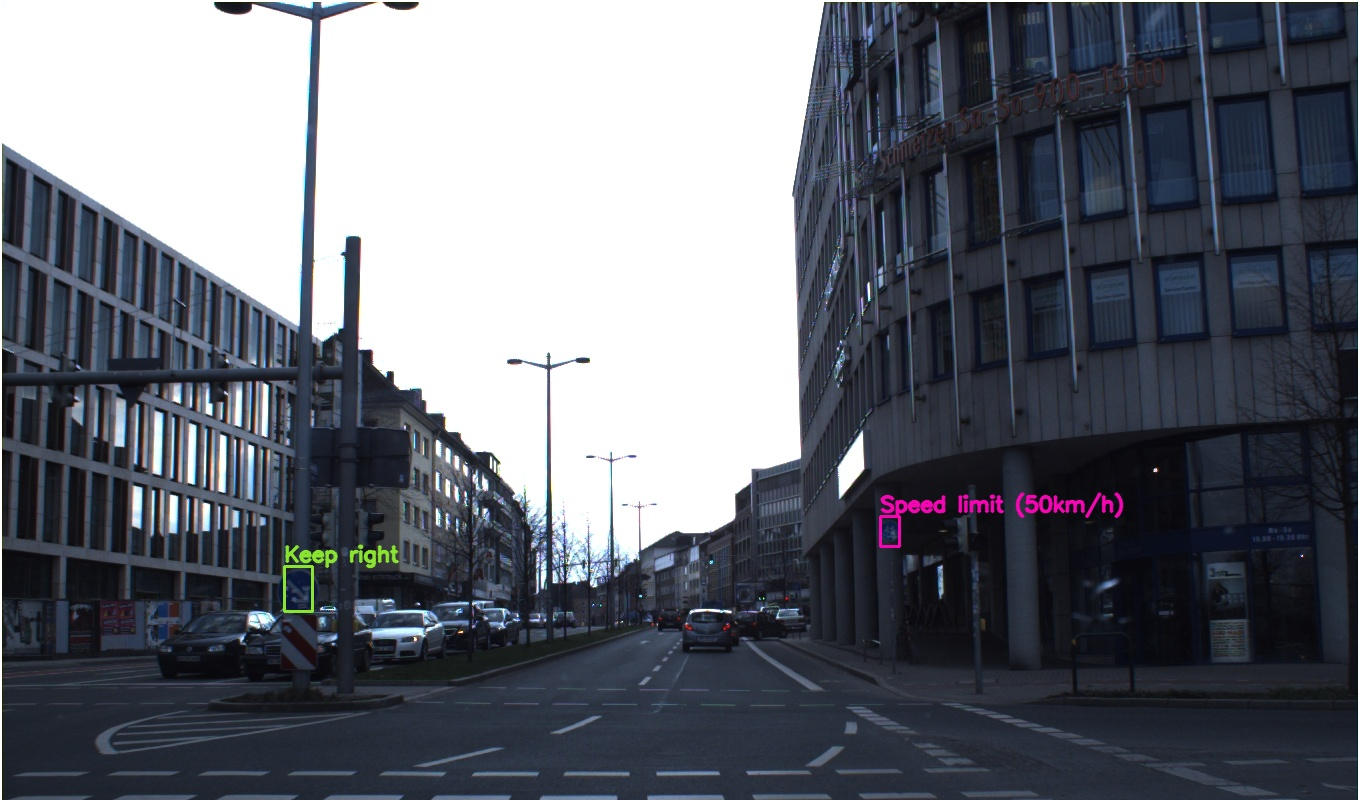Dangerous curve to the left: (766, 369, 806, 406)
